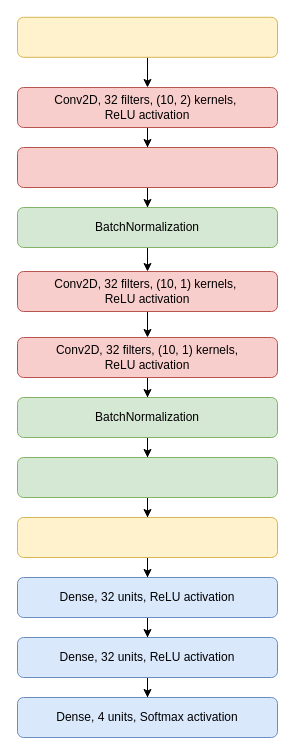
The diagram is 295 pixels wide and 756 high, and some of its shapes have lost their labels. Here are the shapes that lost their labels. From the top down, the centre of each, then its label:
At point (147, 36): "Reshape from (200, 4) to (200, 4, 1)".
At point (147, 167): "Conv2D, 64 filters, (10, 2) kernels, ReLU activation".
At point (147, 477): "MaxPool2D (4, 1)".
At point (147, 537): "Flatten".
